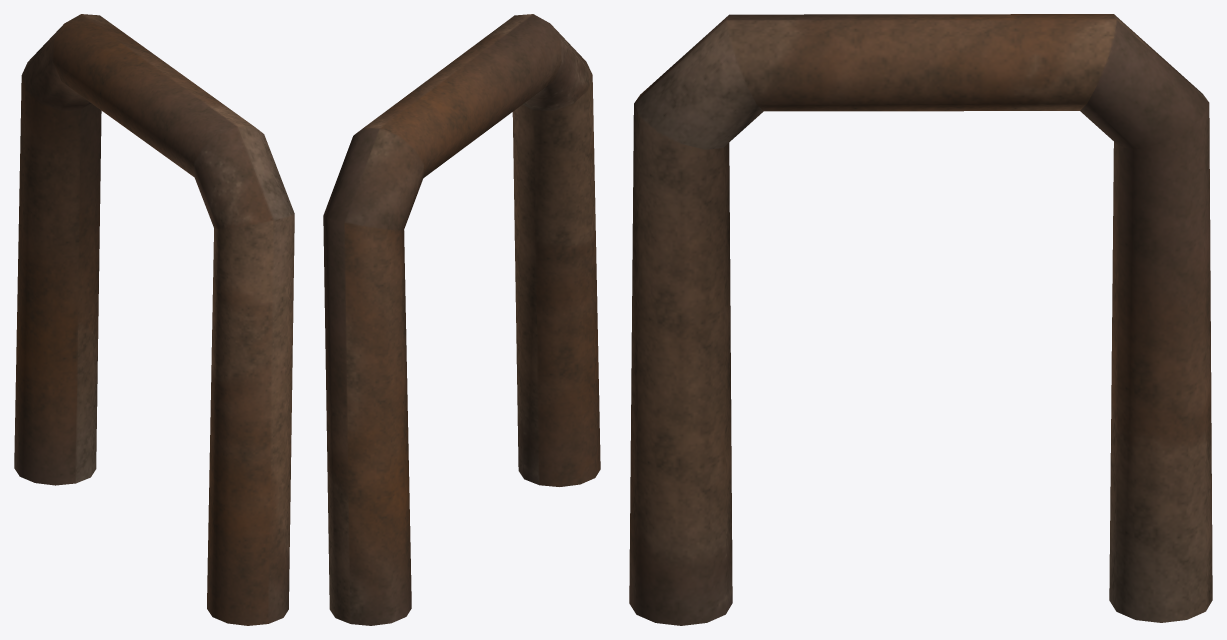
The model's file is Pipe3.fbx.
3 renders of one model, left to right at view 1: azimuth 30°, elevation 25°; view 2: azimuth 150°, elevation 25°; view 3: azimuth 270°, elevation 25°, orthographic. The views are drawn at different scales.
Visible parts, largest first — view 1: Vert.004; view 2: Vert.004; view 3: Vert.004.
Part boxes in pixels (x1=…): Vert.004: x1=14, y1=14, x2=294, y2=625; Vert.004: x1=323, y1=14, x2=600, y2=625; Vert.004: x1=629, y1=14, x2=1212, y2=625.
Bounding box in the file's own units: 97.32 × 541 × 486.
Materials: 1 (1 with a texture image).
